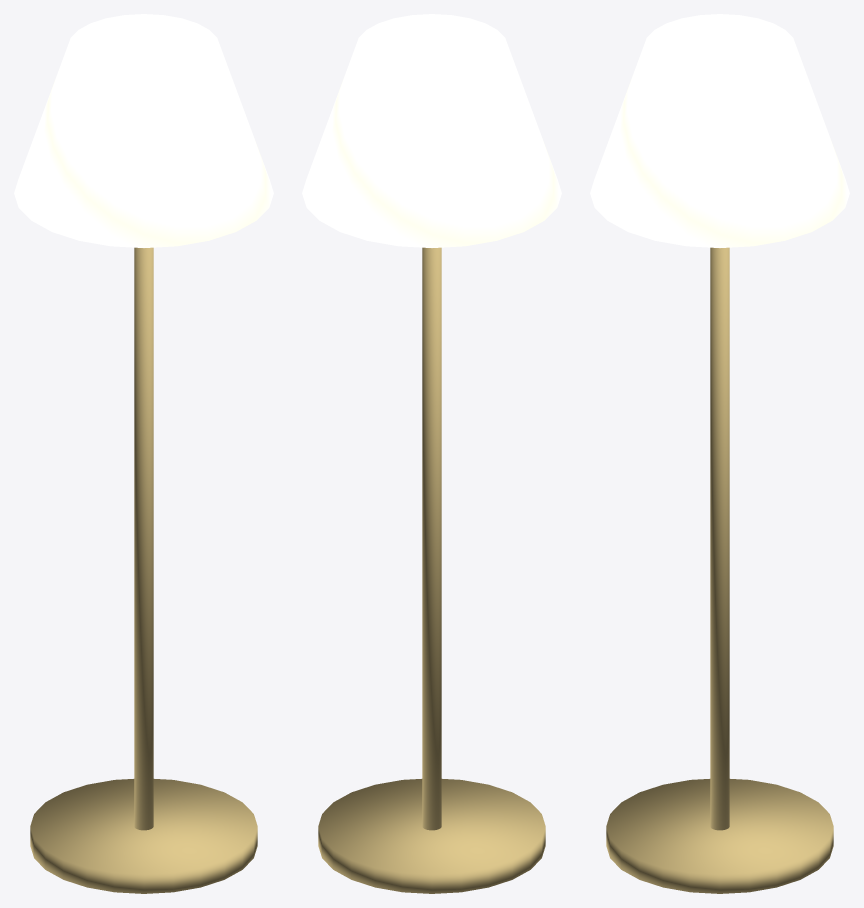
File: lamp_floor.glb
3 views of the same model, side by side, from view 1: azimuth 30°, elevation 25°; view 2: azimuth 150°, elevation 25°; view 3: azimuth 270°, elevation 25° (orthographic).
Visible parts, largest first — view 1: LampShade, LampBase, LampStem; view 2: LampShade, LampBase, LampStem; view 3: LampShade, LampBase, LampStem.
Boxes of the visible parts, x1,y1,x2,y2 form: LampShade: [14, 14, 273, 247]; LampBase: [30, 779, 257, 893]; LampStem: [134, 247, 153, 830]; LampShade: [302, 14, 561, 247]; LampBase: [318, 779, 545, 893]; LampStem: [422, 247, 441, 830]; LampShade: [590, 14, 849, 247]; LampBase: [606, 779, 833, 893]; LampStem: [710, 247, 729, 830].
Bounding box in the file's own units: 0.48 × 1.63 × 0.48.
